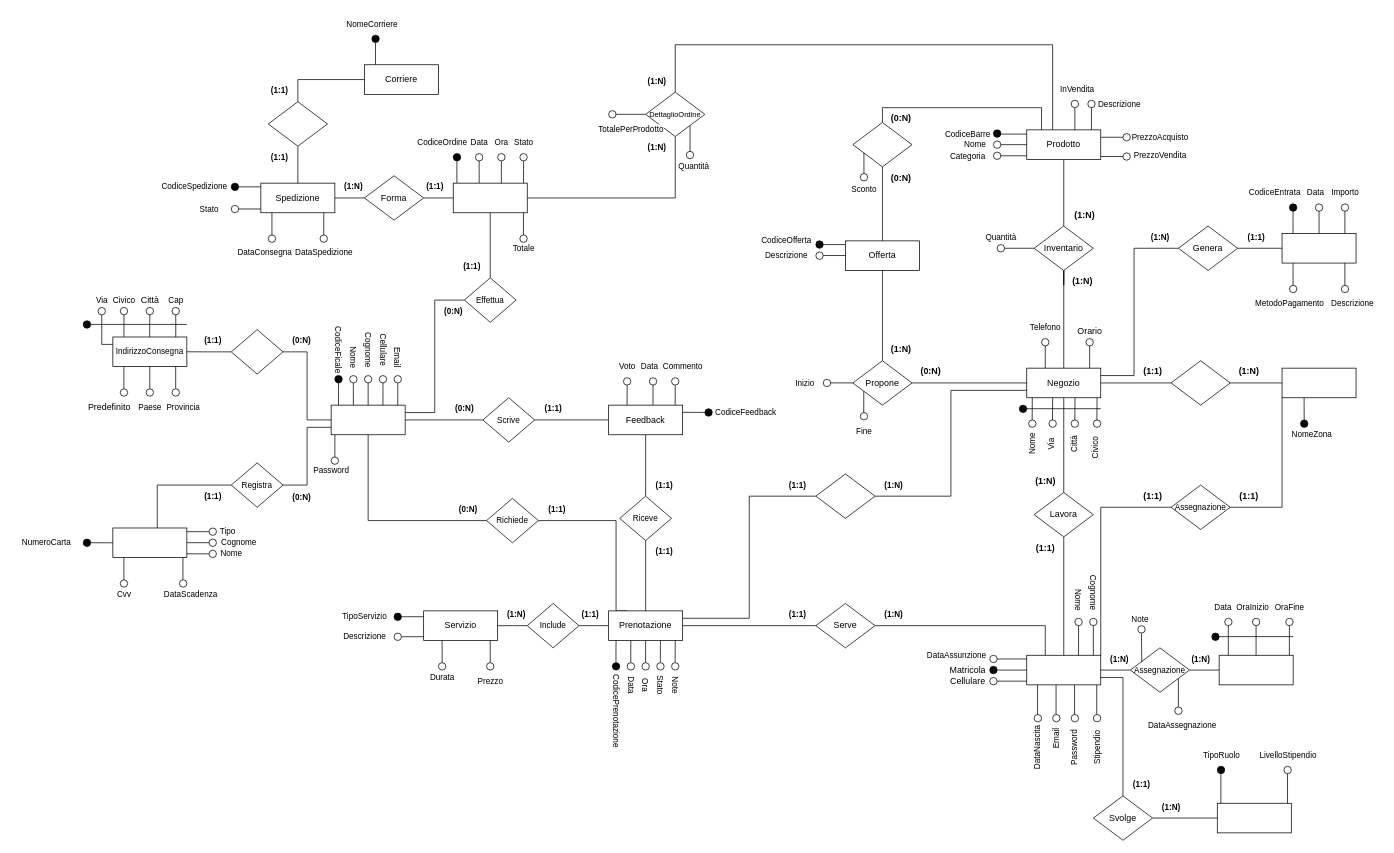
Some shapes in this 1394 by 853 pixel diagram are drawn without their labels. Here are the shapes that lost their labels. From the top down, the box of each, then its label:
(268, 101, 327, 146): Consegna
(852, 122, 912, 167): Applica
(453, 182, 527, 213): Ordine
(1281, 233, 1356, 263): Entrata
(231, 329, 283, 374): Ha
(1170, 360, 1230, 405): Appartiene
(1281, 367, 1356, 398): Zona
(330, 404, 405, 435): Cliente
(815, 473, 875, 518): Gestisce
(112, 527, 187, 558): CartaCredito
(1026, 655, 1101, 685): Dipendente
(1218, 655, 1293, 685): Turno
(1217, 803, 1291, 833): Ruolo
